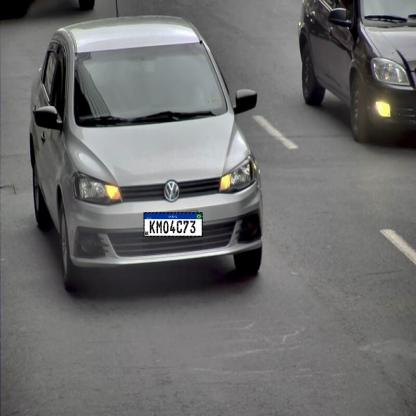PlacaM: (143, 212, 203, 237)
